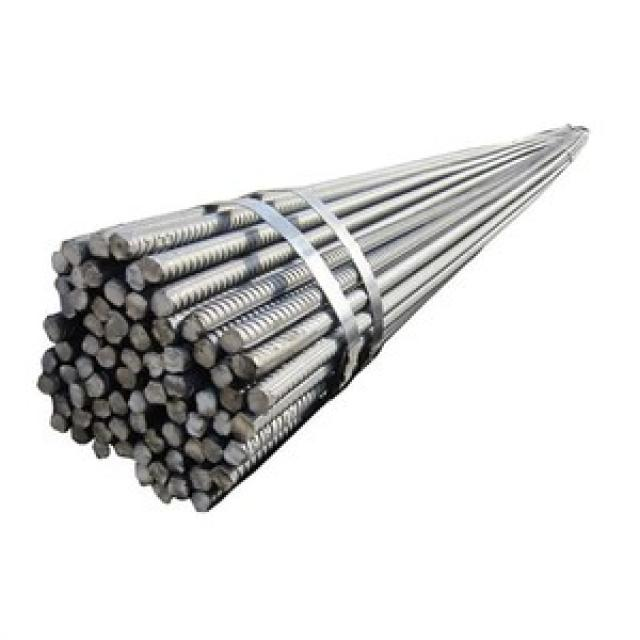Rebar: (152, 316, 178, 346), (152, 287, 178, 317), (139, 257, 163, 287), (65, 235, 87, 267), (195, 338, 217, 369), (180, 315, 205, 342), (234, 354, 258, 380), (167, 448, 191, 474), (83, 373, 107, 399), (48, 247, 72, 273), (111, 234, 133, 262), (40, 314, 61, 342), (249, 390, 273, 414), (211, 364, 236, 387), (164, 348, 186, 374), (126, 294, 148, 320), (105, 320, 127, 346), (104, 280, 125, 307), (183, 413, 207, 436), (223, 330, 244, 356), (84, 263, 103, 291), (211, 471, 235, 493), (234, 416, 256, 440), (97, 344, 119, 368), (223, 388, 244, 413), (197, 389, 217, 415), (131, 322, 151, 348), (110, 390, 128, 418), (164, 423, 184, 448), (145, 380, 165, 405), (41, 348, 61, 373), (93, 296, 112, 322), (222, 447, 251, 464), (166, 378, 189, 399), (205, 439, 225, 463), (167, 398, 187, 422), (132, 410, 151, 435), (126, 264, 145, 289), (113, 442, 133, 464), (82, 334, 102, 356), (55, 277, 75, 299), (193, 465, 211, 489), (152, 487, 170, 511), (147, 431, 165, 455), (113, 415, 131, 439), (94, 438, 112, 462), (144, 351, 160, 378), (50, 389, 68, 413), (77, 356, 97, 377), (214, 413, 233, 435), (91, 234, 110, 256), (135, 463, 151, 489), (69, 383, 85, 409), (59, 296, 77, 319), (71, 288, 88, 312), (117, 367, 137, 387), (170, 478, 188, 500), (49, 414, 67, 436), (38, 373, 56, 395), (61, 361, 79, 383), (93, 394, 110, 417), (186, 438, 202, 462), (125, 349, 141, 373), (129, 388, 145, 412), (91, 417, 107, 441), (54, 340, 73, 360), (73, 267, 91, 288), (192, 493, 210, 513), (134, 444, 152, 464), (71, 428, 91, 446), (70, 408, 88, 428), (154, 460, 168, 485), (87, 314, 103, 334)
